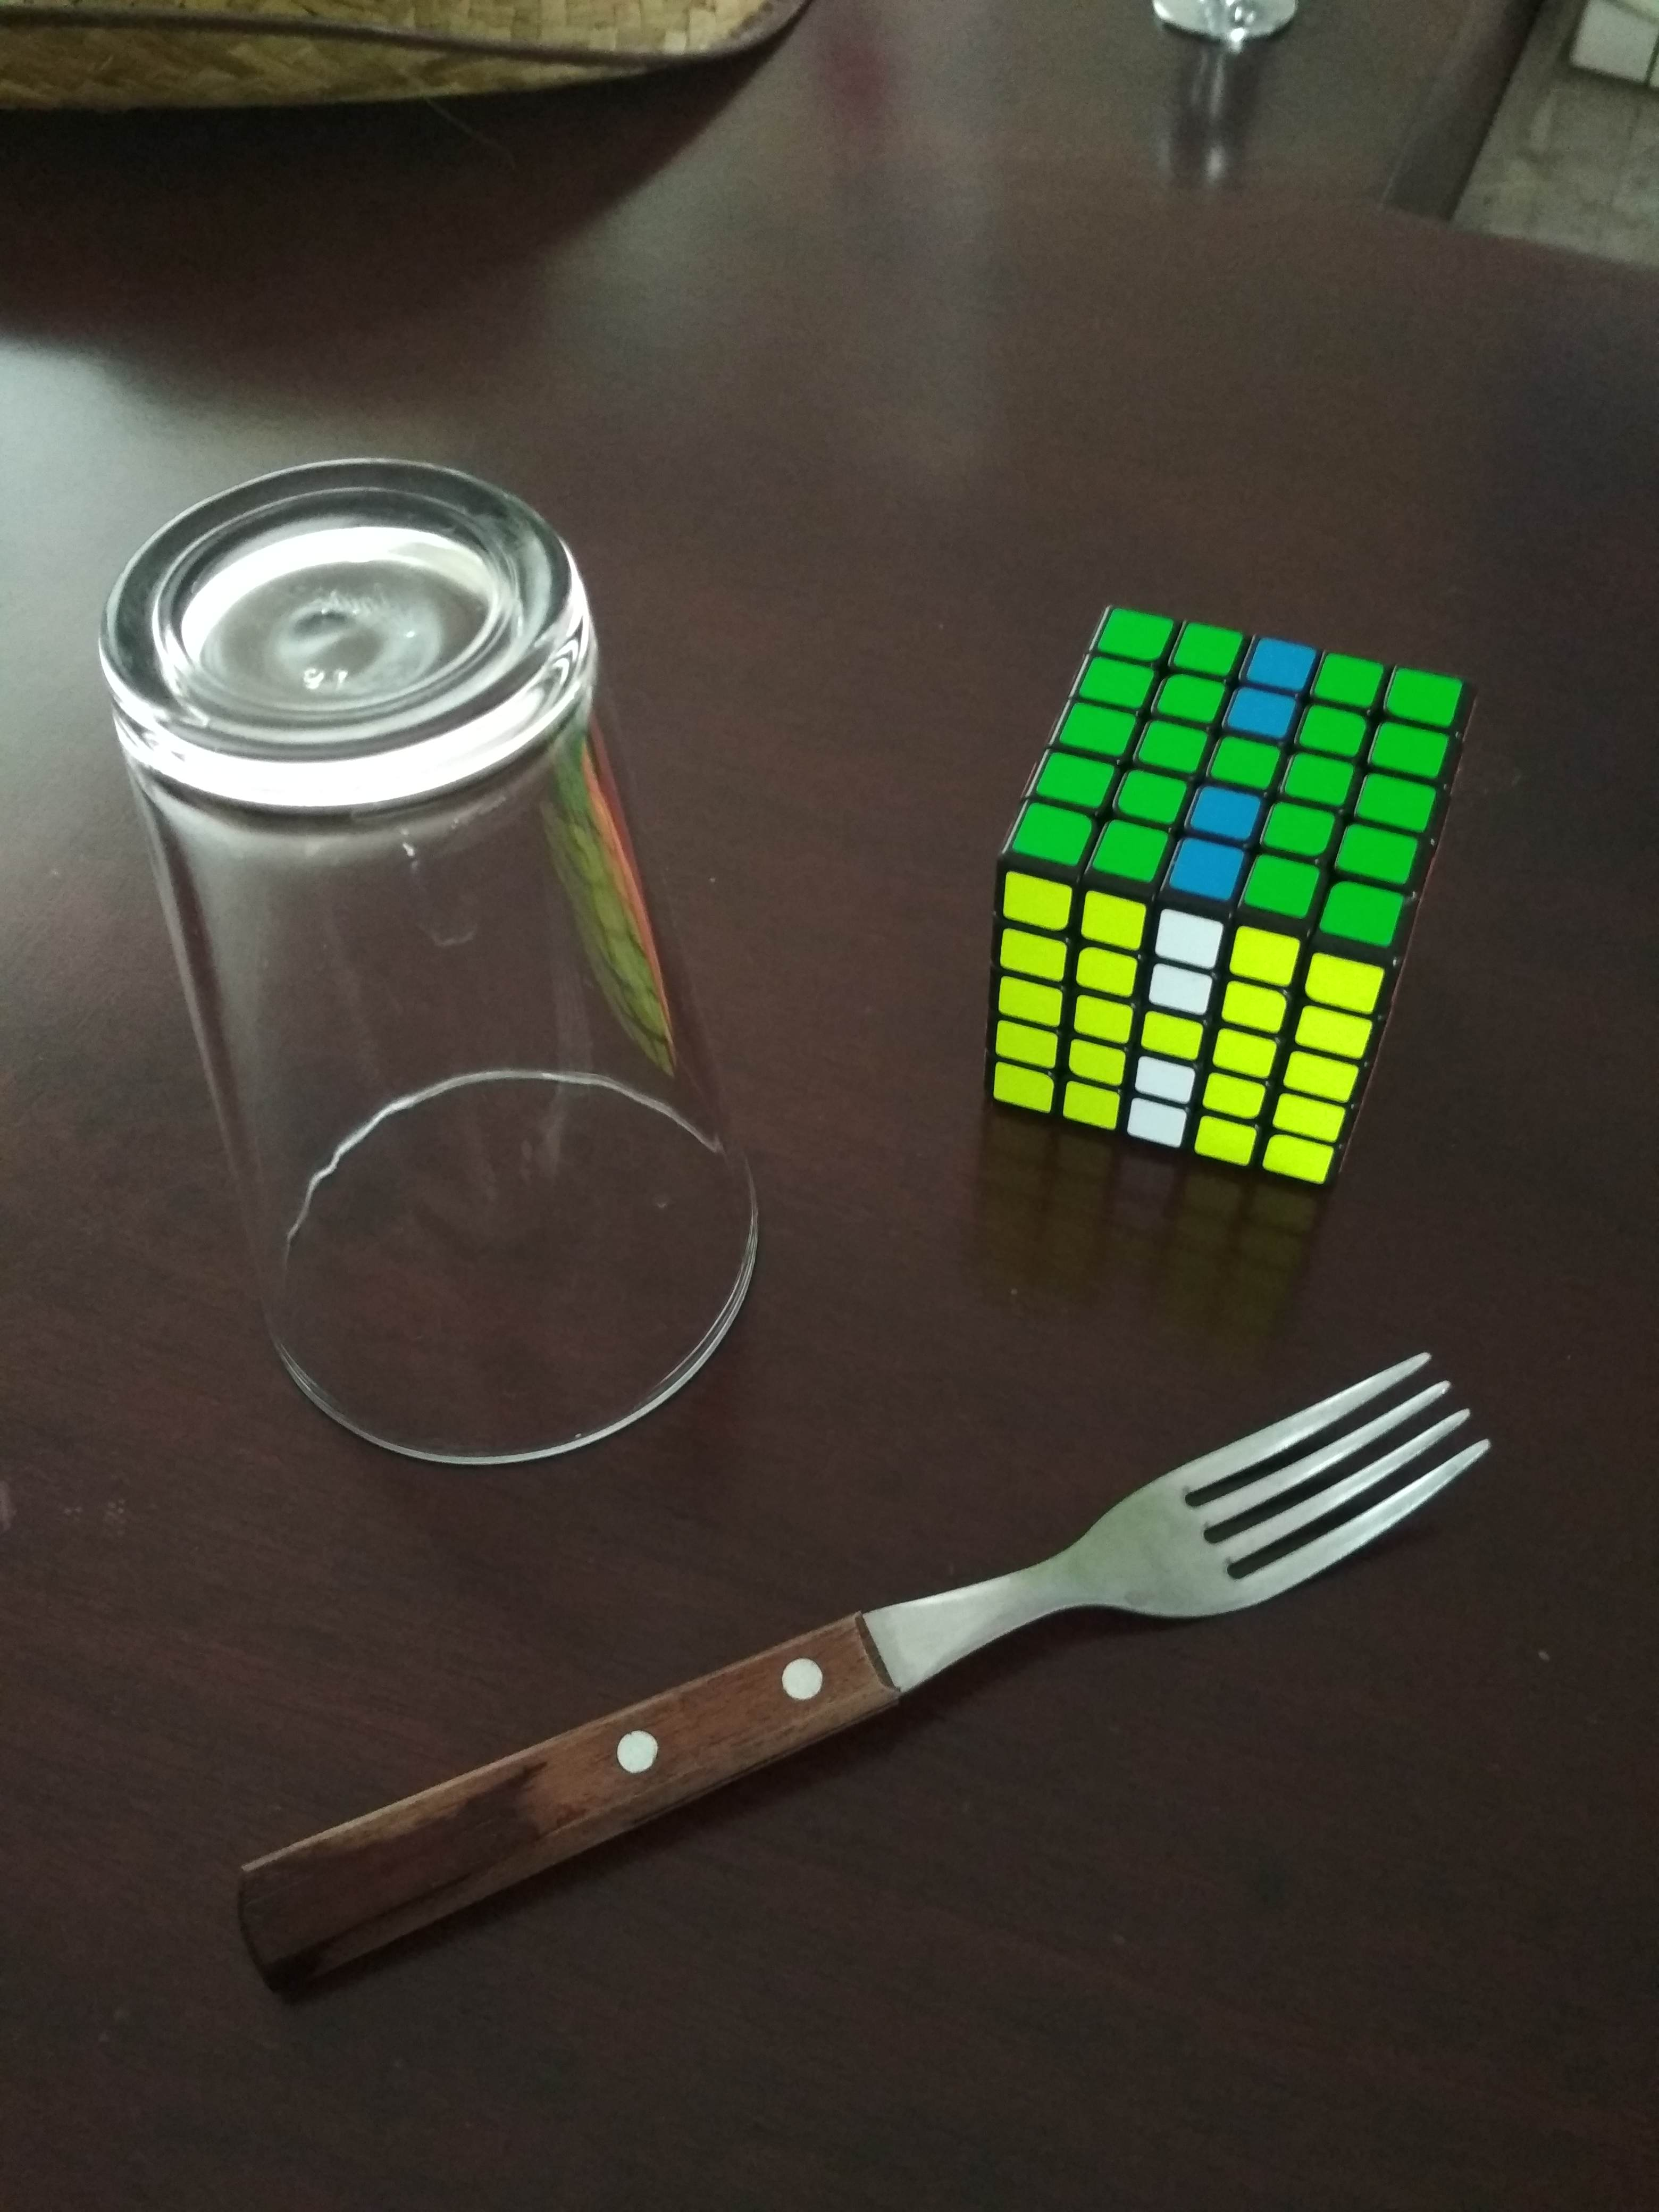fork: (218, 1331, 1506, 2017)
glass: (82, 437, 793, 1510)
rubik_cube: (958, 571, 1504, 1219)
